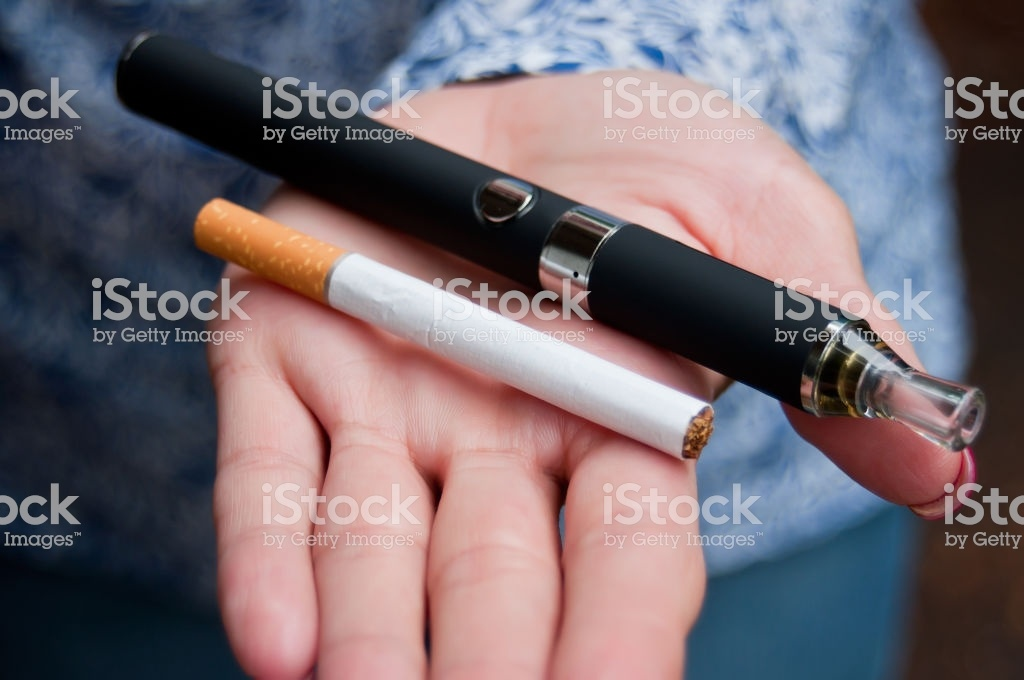sigaretta: (201, 208, 711, 456)
